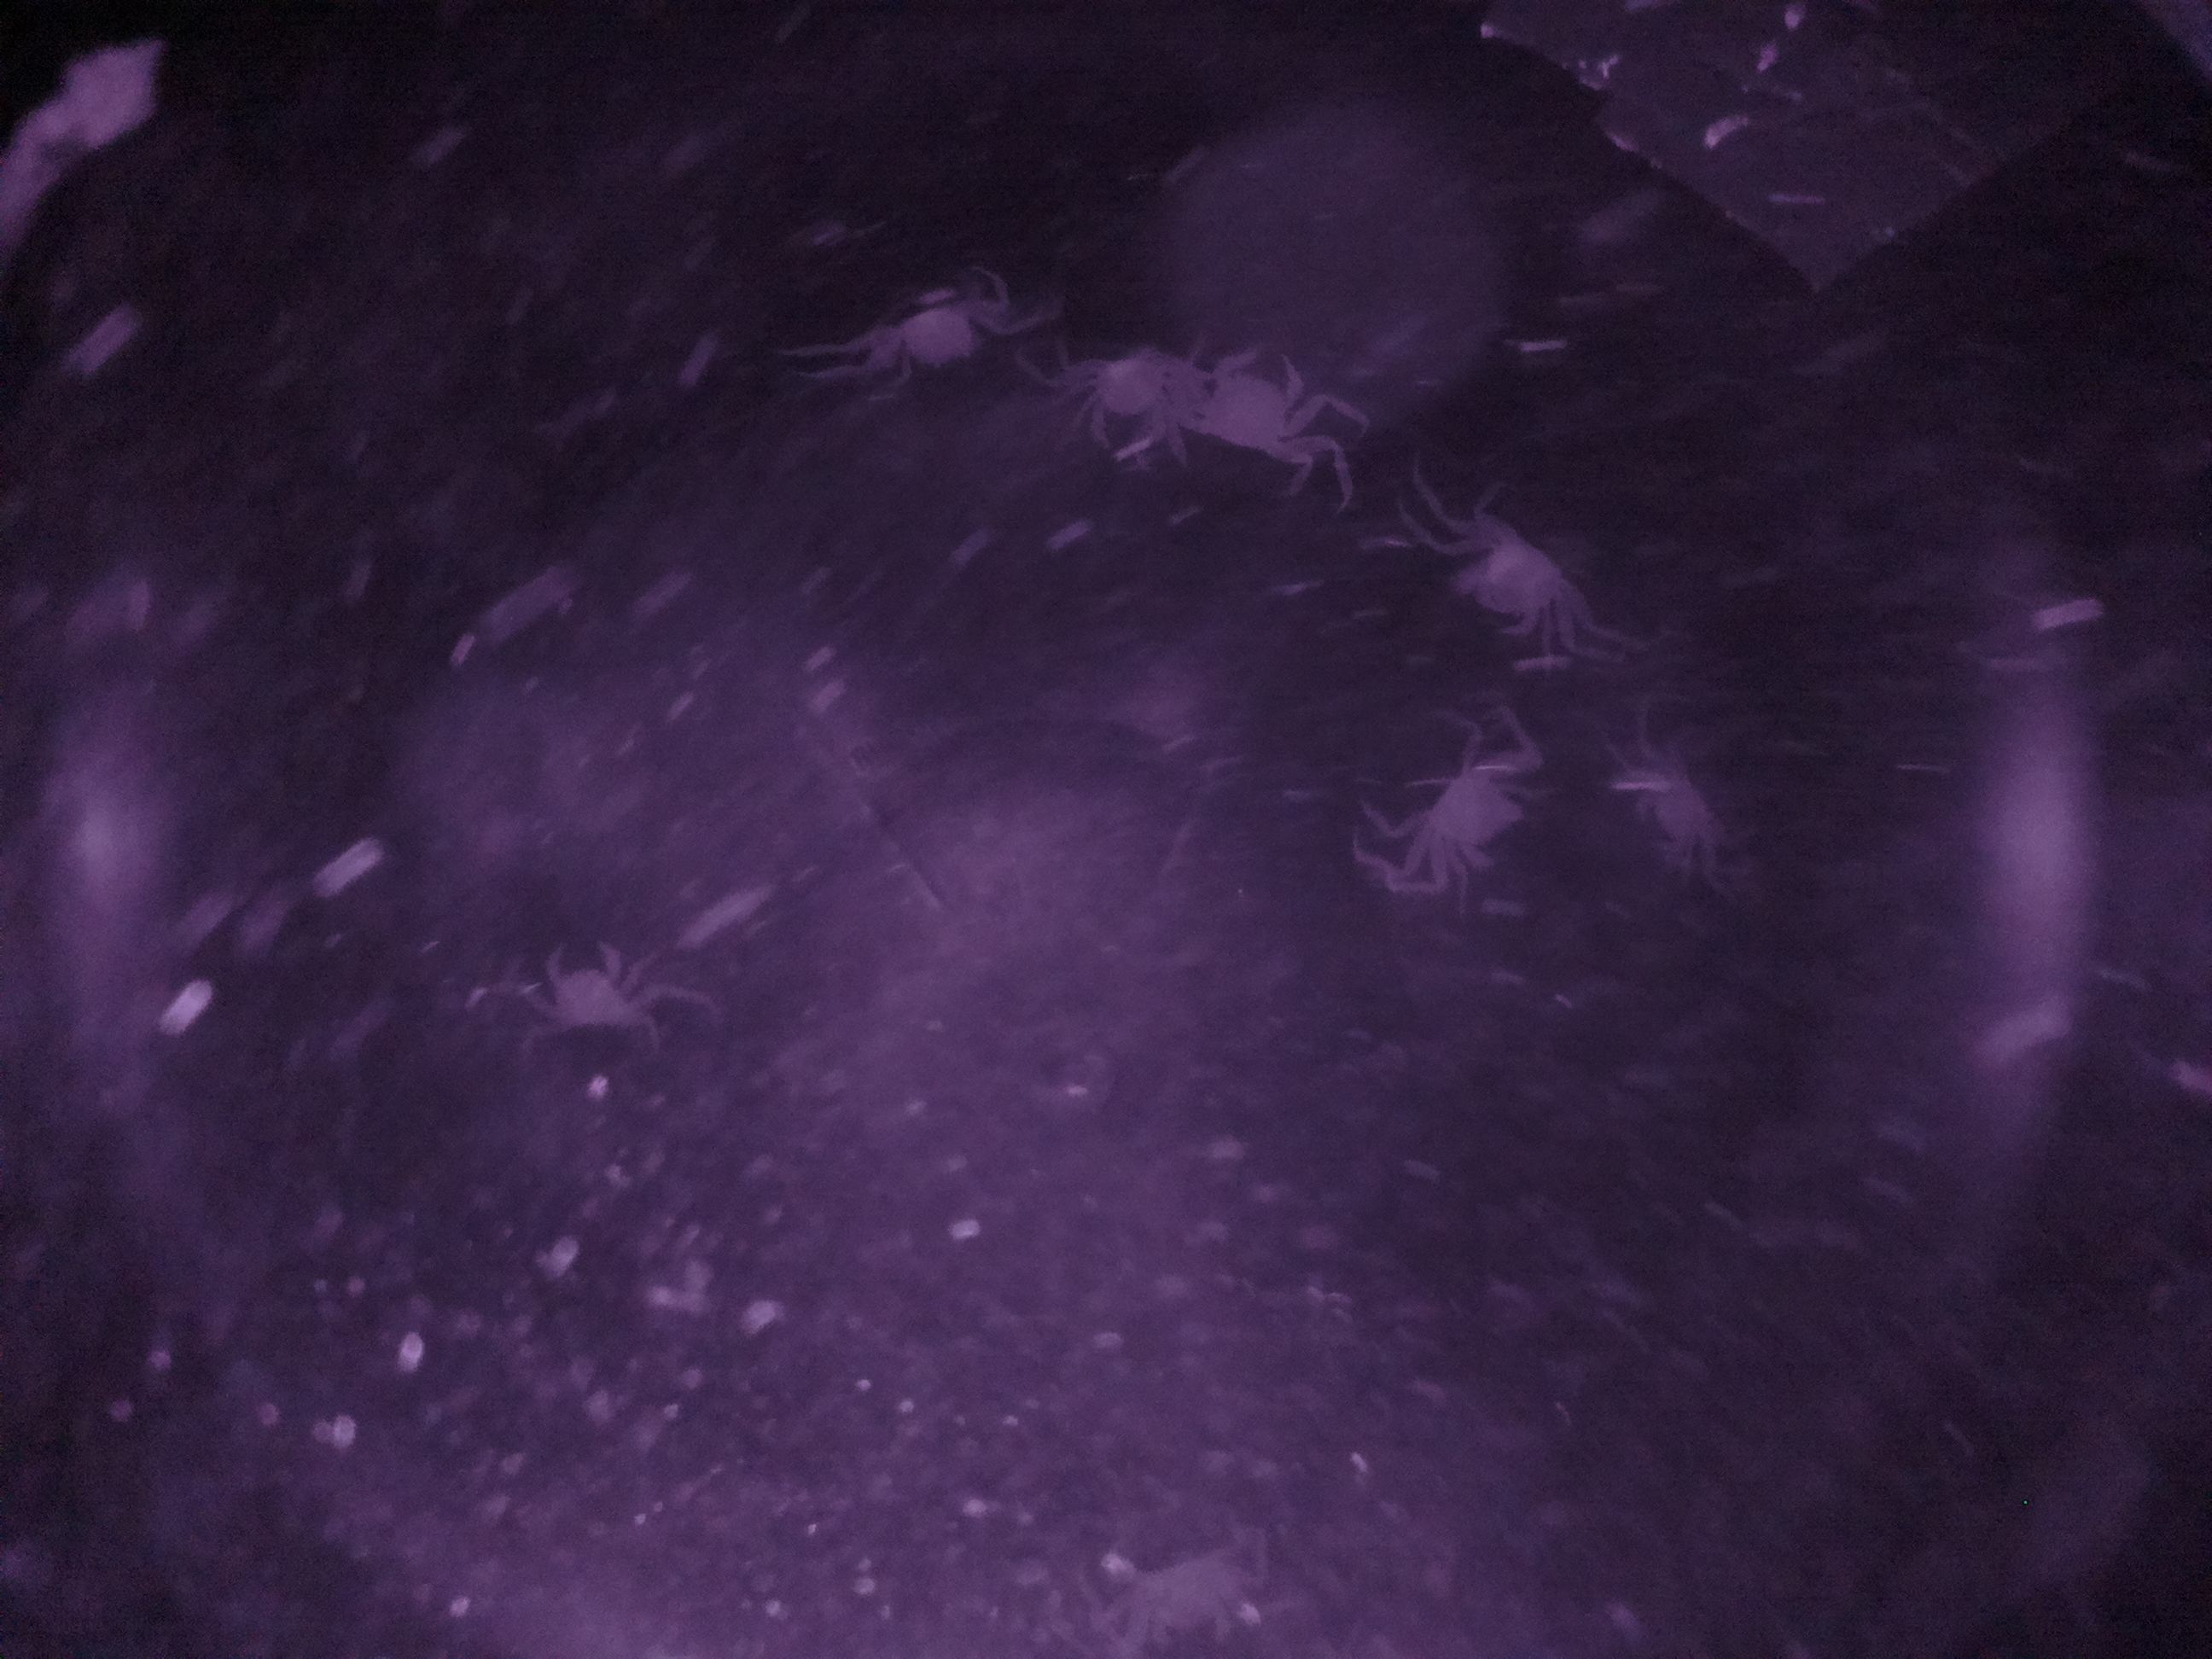Crab: (1397, 472, 1625, 673)
